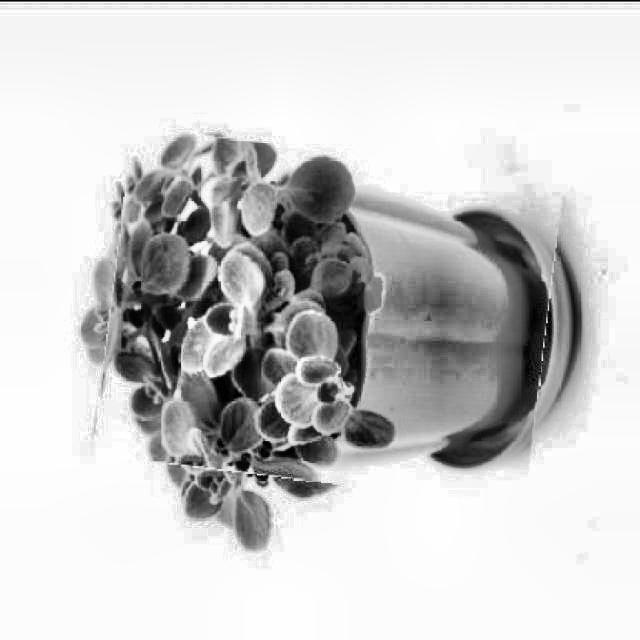plants: (102, 138, 556, 492)
